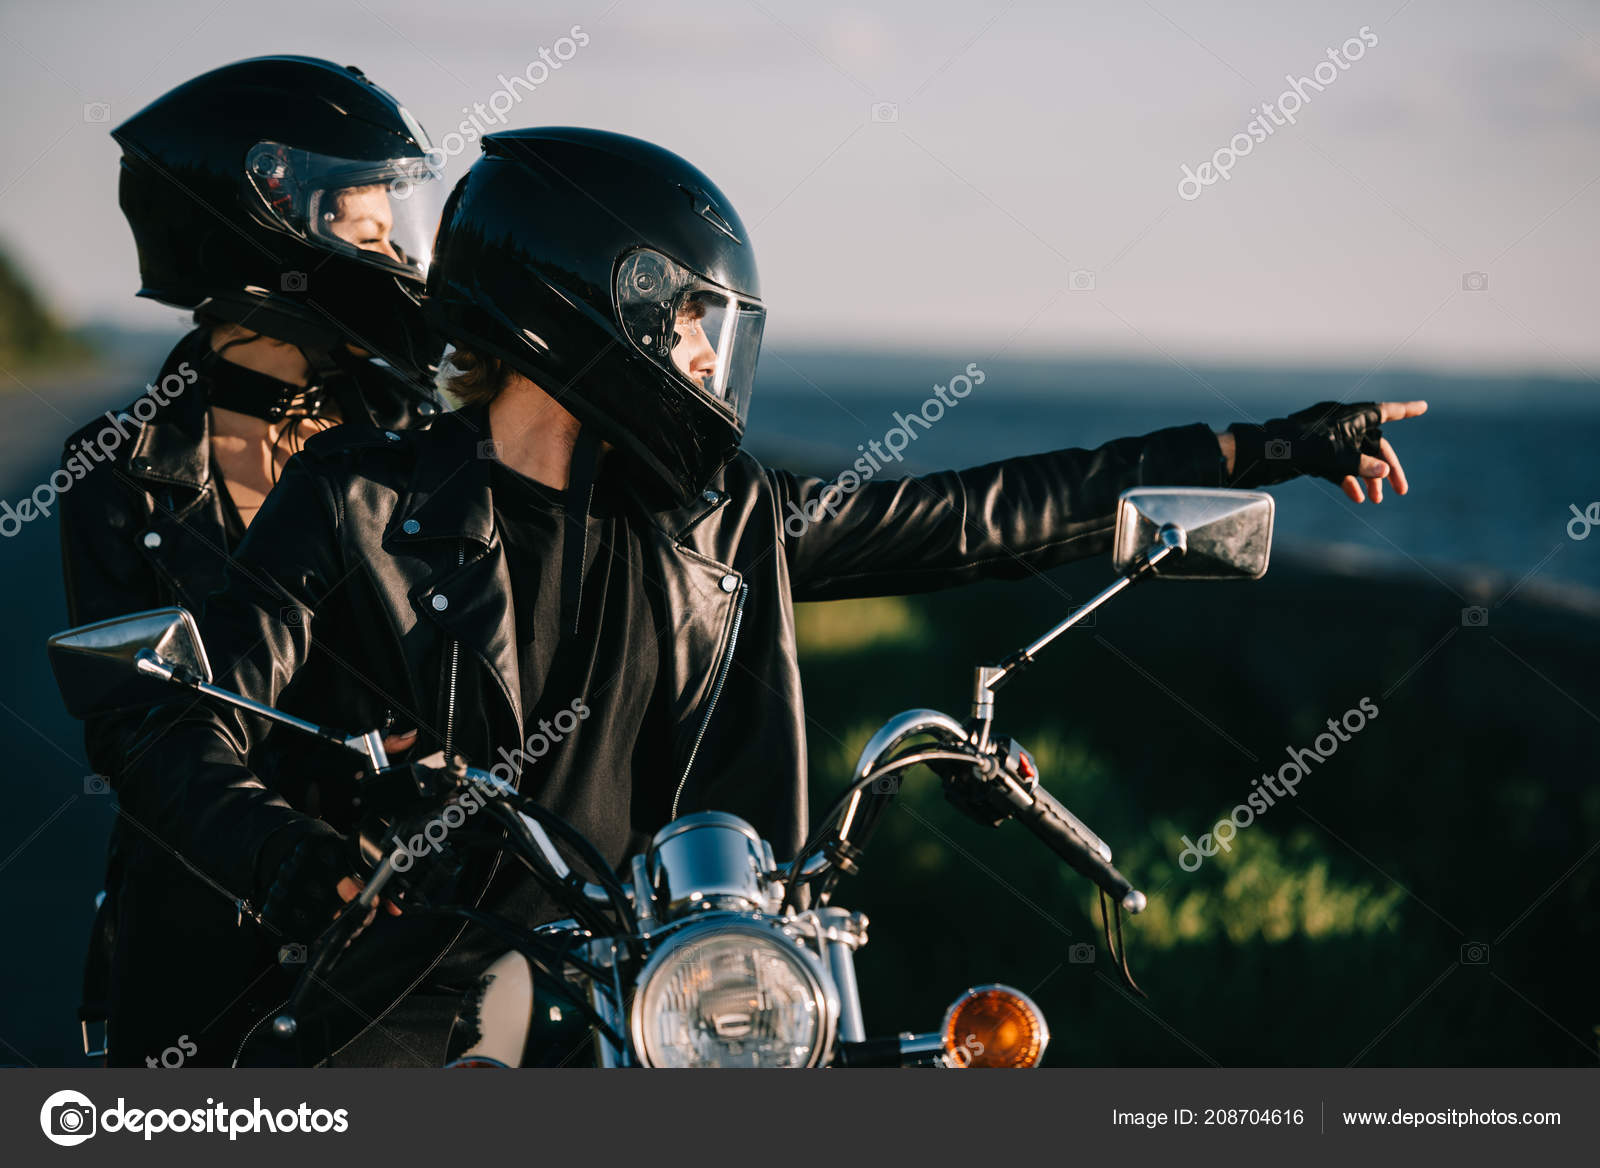helmet: (463, 118, 761, 478), (128, 58, 437, 345)
